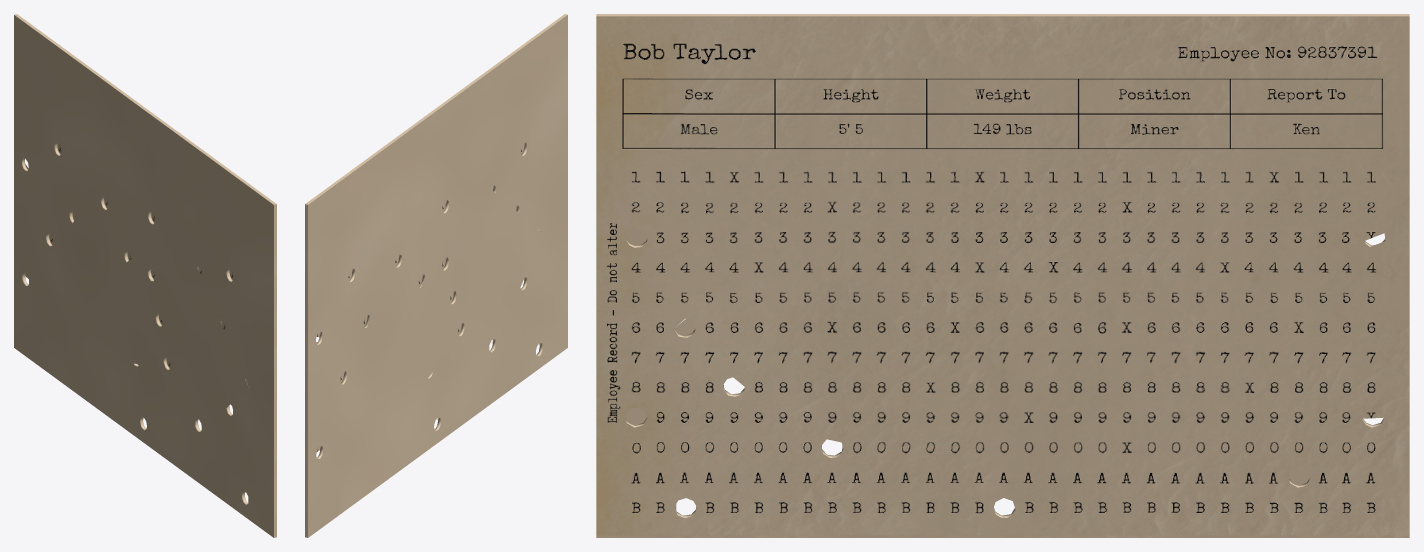
File: employeeCard10Aadi.fbx
The picture shows the model from 3 angles, left to right: view 1: azimuth 30°, elevation 25°; view 2: azimuth 150°, elevation 25°; view 3: azimuth 270°, elevation 25°; orthographic projection. The views are drawn at different scales.
Parts seen in each view (by area): view 1: Employee 10 Card Puzzle Punched; view 2: Employee 10 Card Puzzle Punched; view 3: Employee 10 Card Puzzle Punched.
Boxes of the visible parts, box(x1,y1,x2,y2) form: Employee 10 Card Puzzle Punched: box(14, 14, 276, 537); Employee 10 Card Puzzle Punched: box(305, 14, 567, 537); Employee 10 Card Puzzle Punched: box(596, 14, 1409, 537).
Size of the model in its own units: 0.9779 by 100 by 141.
1 material, 1 textured.
